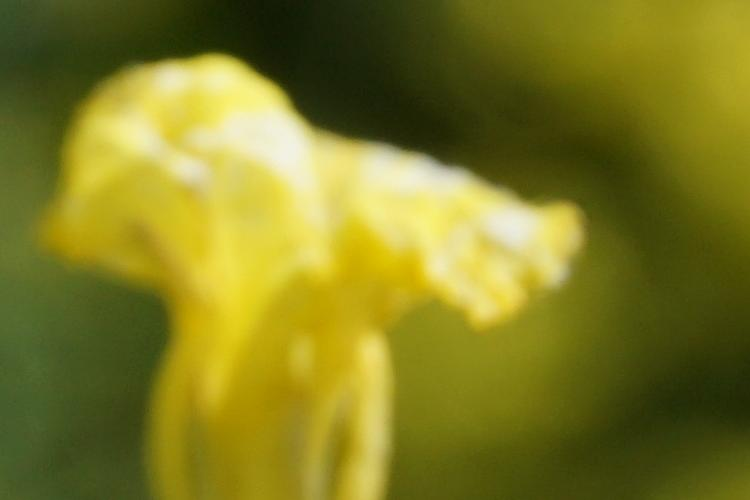yellow: (44, 75, 571, 482)
